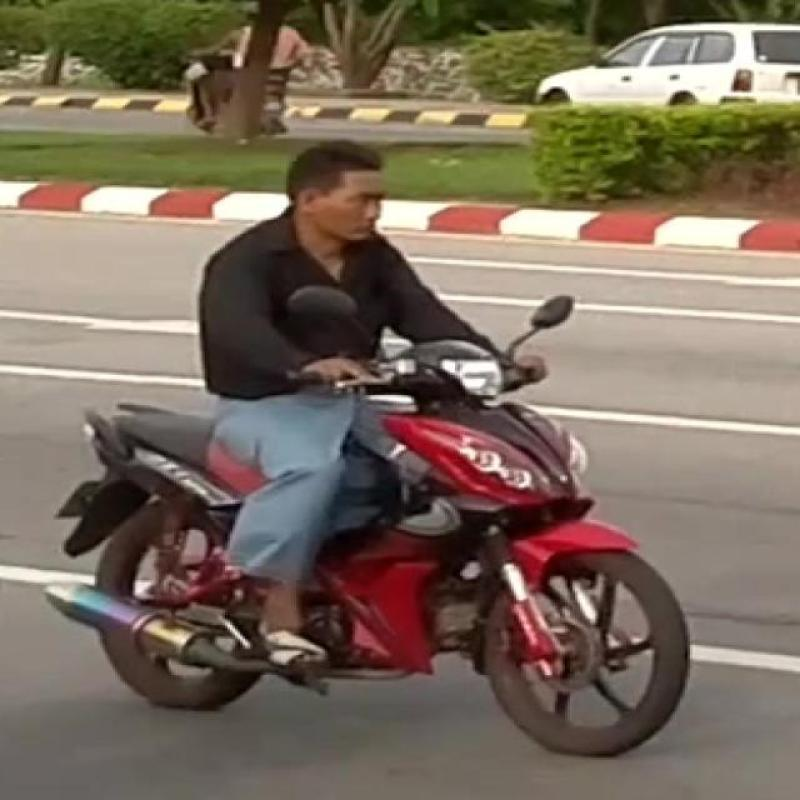nohelmet: (267, 125, 402, 256)
